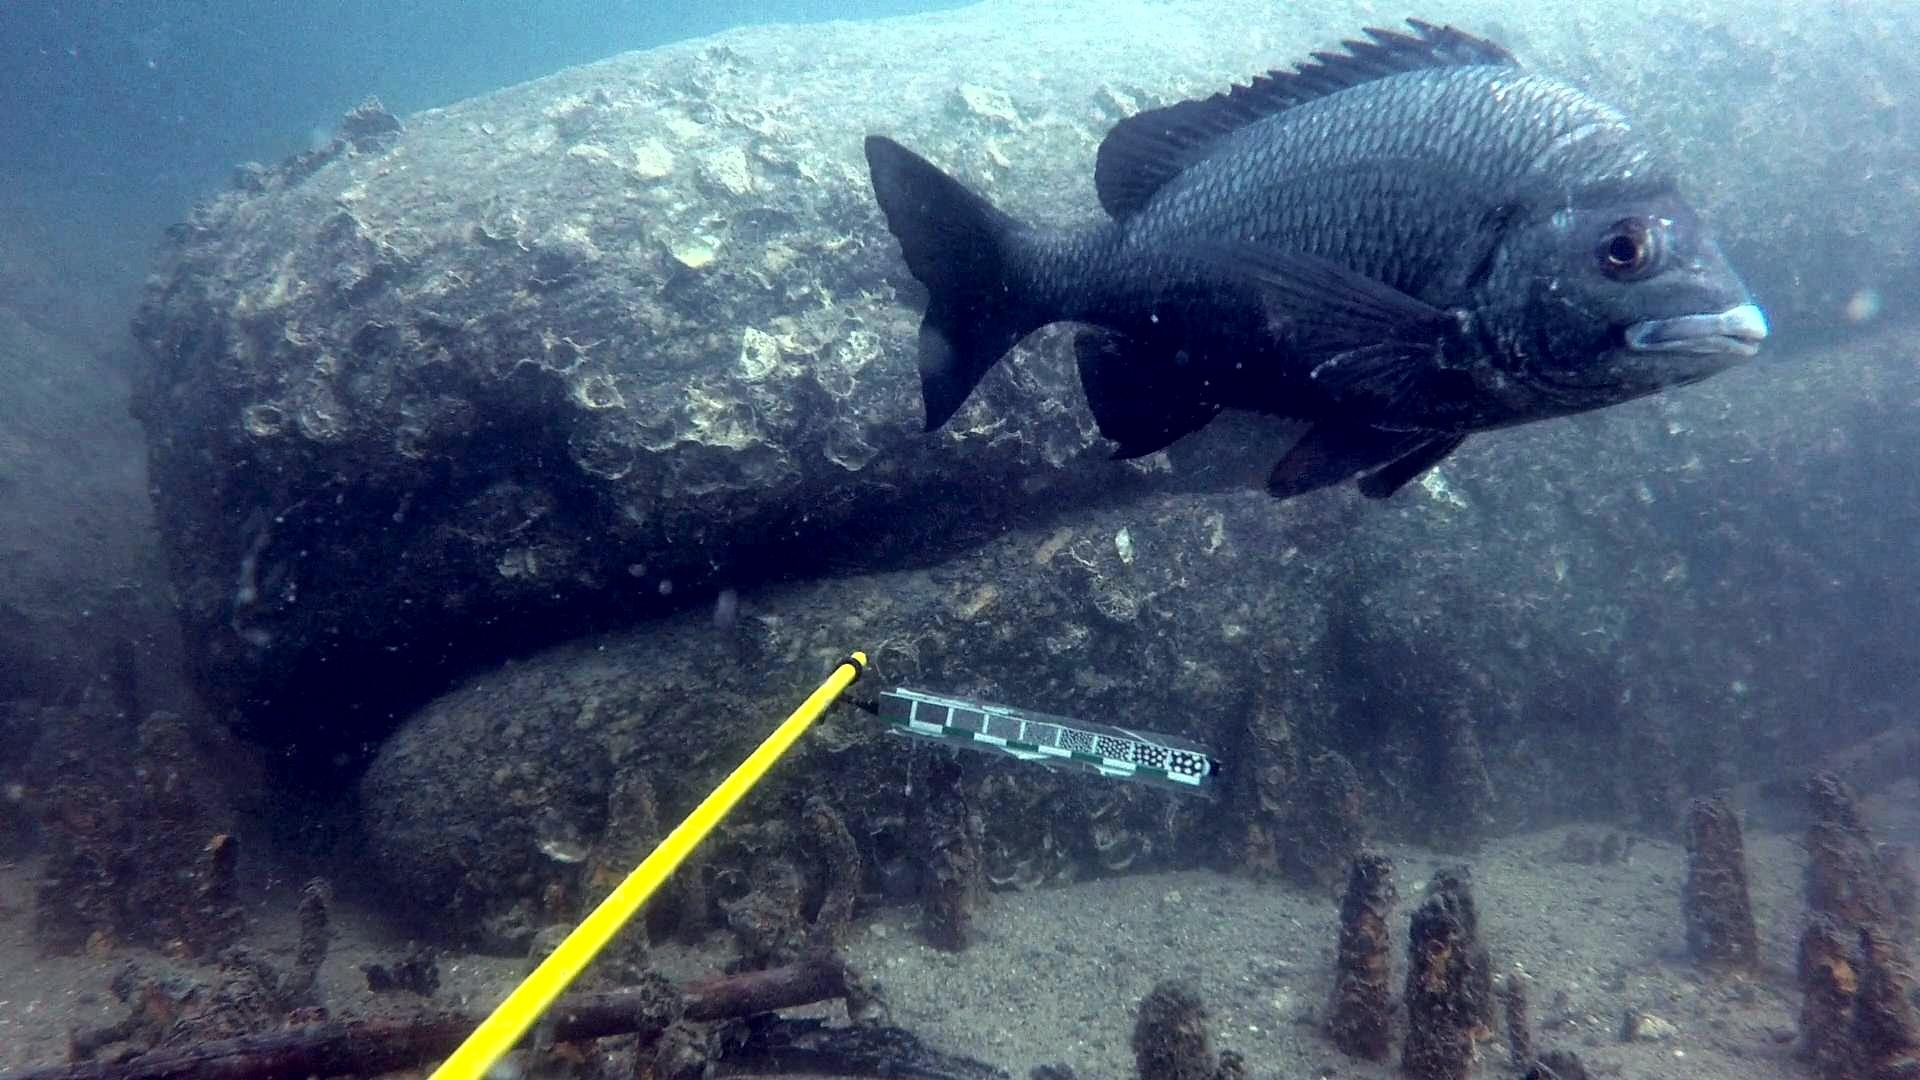acanthopagrus palmaris: (858, 0, 1778, 500)
